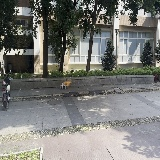fire: (63, 80, 72, 87)
